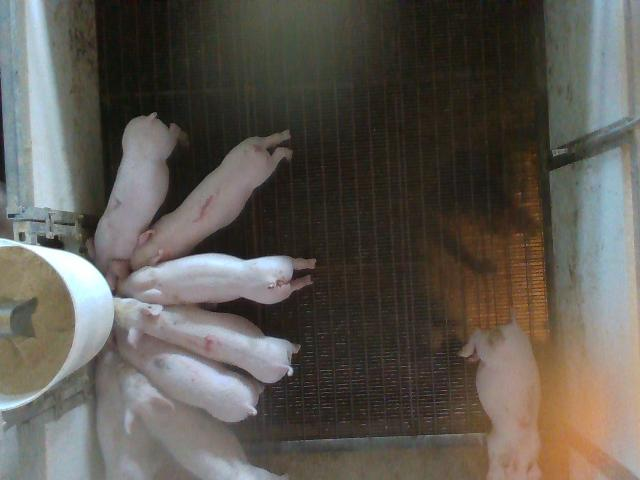pig-1: (131, 131, 292, 269)
pig-3: (461, 322, 541, 478)
pig-4: (114, 298, 299, 382)
